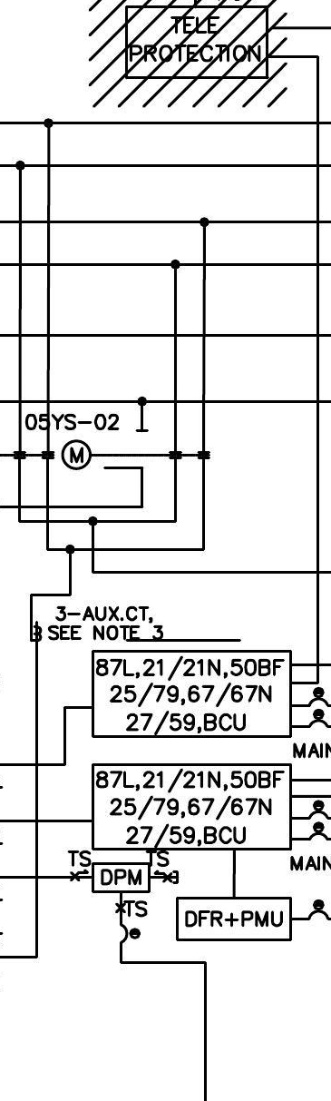115_1way_ds_w_motor: (60, 428, 149, 471)
DPM: (90, 861, 152, 894)
tele_protection: (122, 4, 271, 82)
